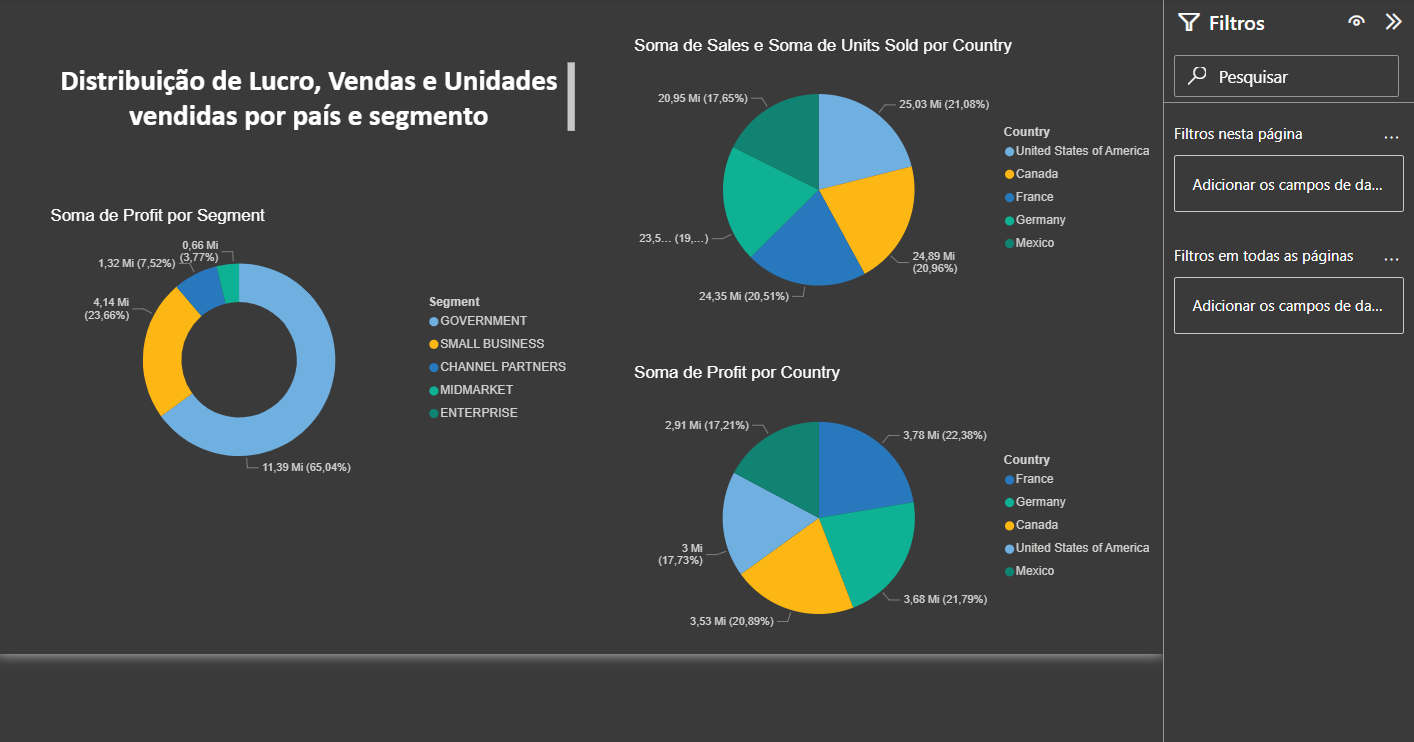

This screenshot's page, from the dashboard's own definition file:
{"tool":"powerbi","page":{"name":"Página 3","canvas":[1280,720],"ordinal":2},"visuals":[{"type":"pieChart","fields":{"Category":["financials.Country"],"Y":["Sum(financials.Sales)"]},"box":[694.3,41.2,585.9,318.4],"z":0},{"type":"pieChart","fields":{"Category":["financials.Country"],"Y":["Sum(financials.Profit)"]},"box":[694.3,400.7,585.9,319.7],"z":1000},{"type":"donutChart","fields":{"Y":["Sum(financials.Profit)"],"Category":["financials.Segment"]},"box":[53.5,227.8,585.9,318.4],"z":2000},{"type":"textbox","box":[53.5,65.9,585.9,86.4],"z":3001}]}

Visuals, with their boxes on the page's 1280x720 design canvas (x1, y1, x2, y2). These are canvas units, not pixel positions in the 1414x742 screenshot, which may show the page scaled, cropped or inside an application window:
pieChart - financials.Country x Sum(financials.Sales): <bbox>694, 41, 1280, 360</bbox>
pieChart - financials.Country x Sum(financials.Profit): <bbox>694, 401, 1280, 720</bbox>
donutChart - Sum(financials.Profit) x financials.Segment: <bbox>54, 228, 639, 546</bbox>
textbox: <bbox>54, 66, 639, 152</bbox>
